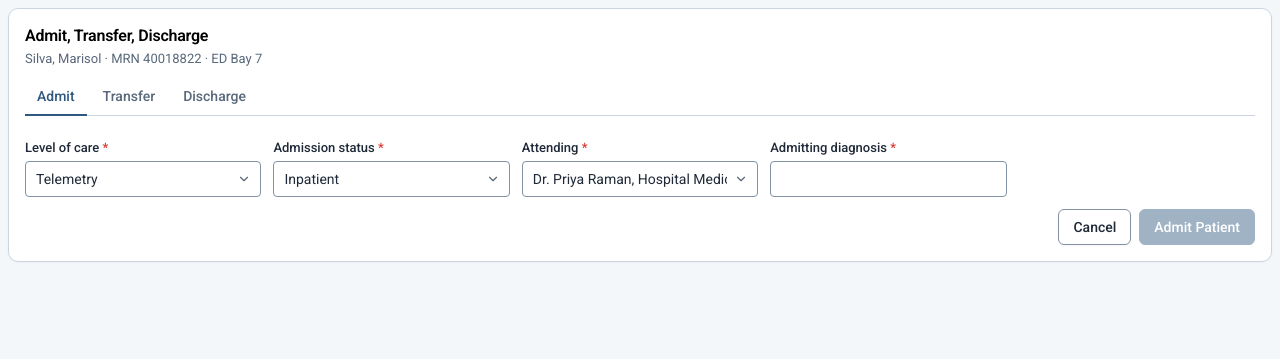
ADTPanel › admits once a diagnosis is entered
Expected: the tab "Transfer" is disabled, [91,78,167,116]
Expected: the button "Admit Patient" is disabled, [1139,209,1255,245]
Type "NSTEMI" into the field labelled "Admitting diagnosis *" at (888, 179), box [770,161,1007,197]
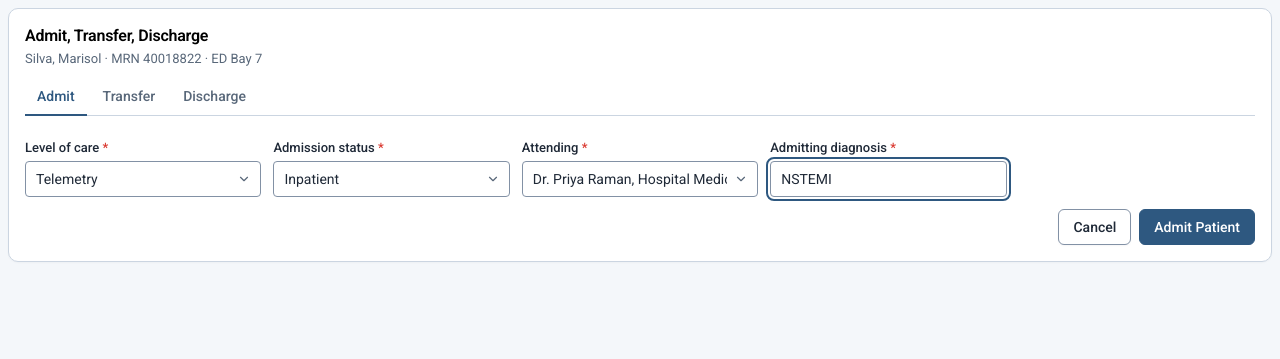
Click the button "Admit Patient" at (1197, 227), box [1139,209,1255,245]
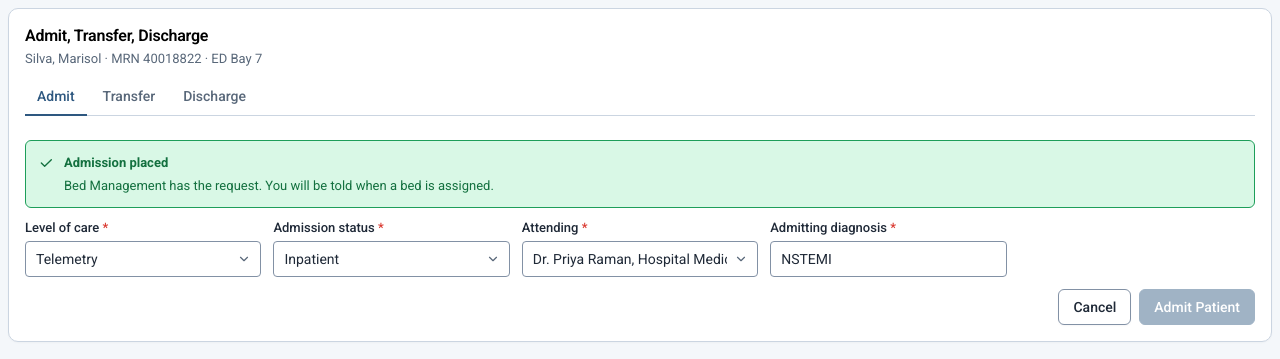
Expected: the text "Admission placed" is shown, [64,155,168,170]
Expected: the button "Admit Patient" is disabled, [1139,289,1255,325]
